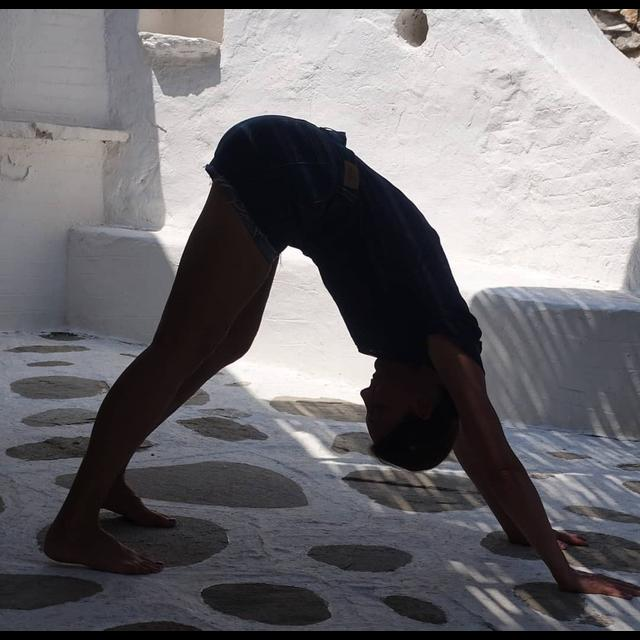Downward-Facing_Dog: (39, 113, 640, 603)
